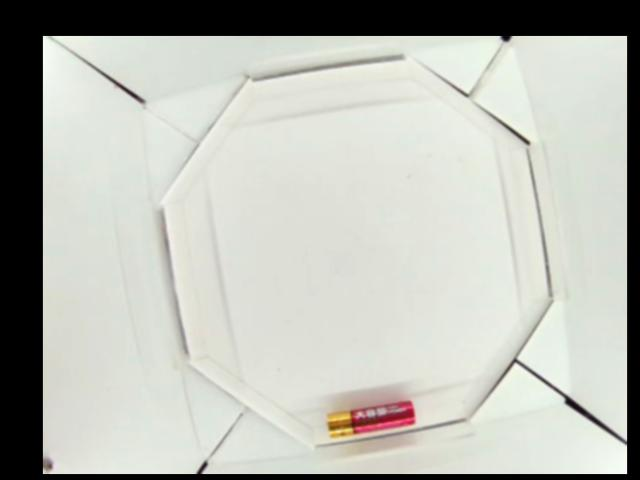Battery: (325, 399, 418, 440)
